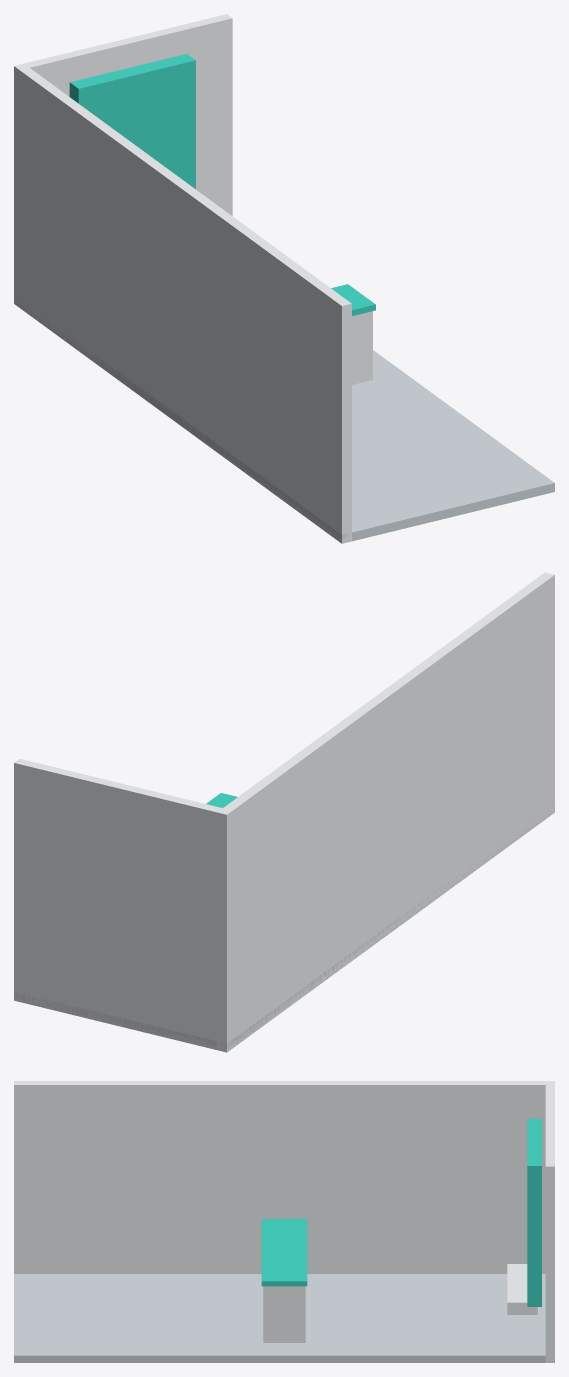
The picture shows the model from 3 angles, top to bottom: view 1: azimuth 30°, elevation 25°; view 2: azimuth 150°, elevation 25°; view 3: azimuth 270°, elevation 25°; orthographic projection. The views are drawn at different scales.
Parts seen in each view (by area): view 1: Exhibition Booth Concept; view 2: Exhibition Booth Concept; view 3: Exhibition Booth Concept.
Part boxes in pixels (x1=…): Exhibition Booth Concept: x1=14, y1=14, x2=554, y2=543; Exhibition Booth Concept: x1=14, y1=572, x2=554, y2=1052; Exhibition Booth Concept: x1=14, y1=1081, x2=554, y2=1362.
Bounding box in the file's own units: 3 × 3.2 × 8.
